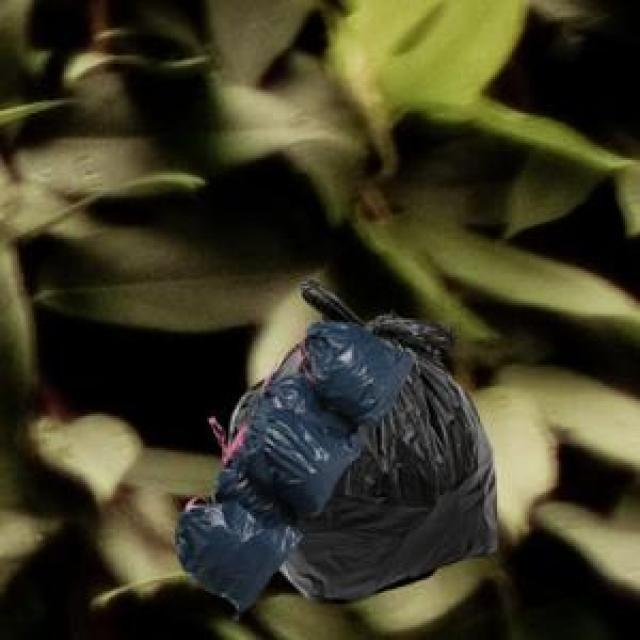waste: (180, 284, 496, 611)
